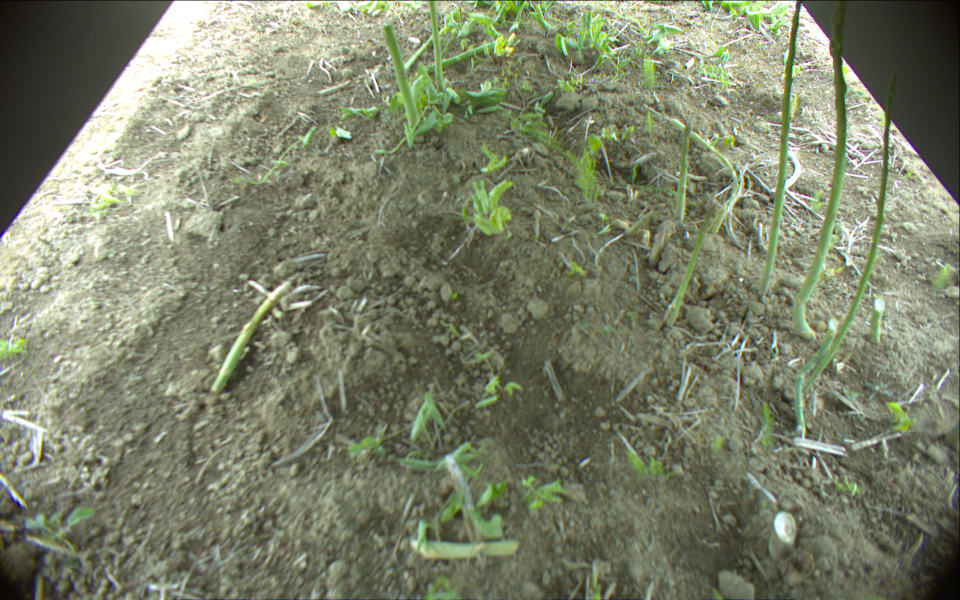aspa: (802, 71, 899, 393), (790, 1, 848, 342), (759, 1, 803, 298), (209, 280, 291, 395), (668, 118, 738, 235), (662, 203, 717, 327), (794, 318, 837, 437), (383, 24, 418, 131), (429, 40, 496, 71), (410, 540, 518, 559), (674, 121, 693, 219), (427, 1, 445, 91), (403, 32, 433, 72), (871, 297, 886, 345)
